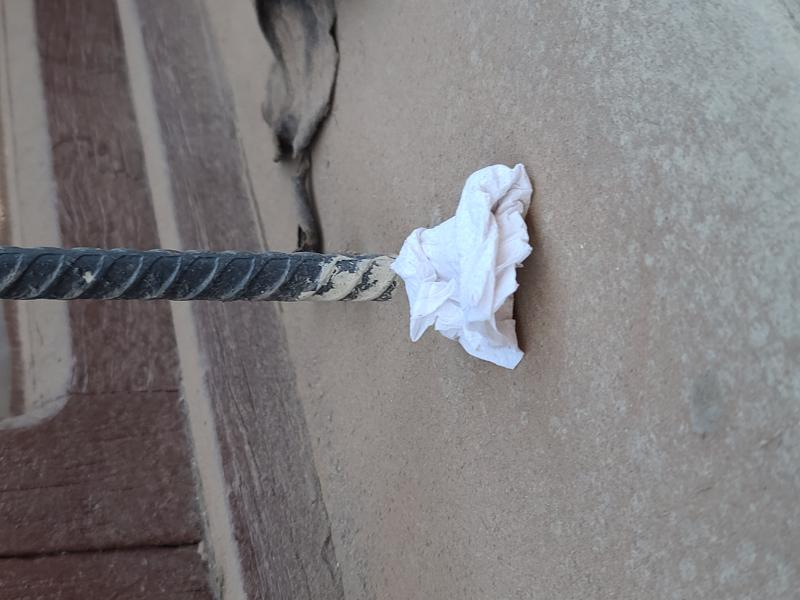papel: (388, 164, 535, 371)
